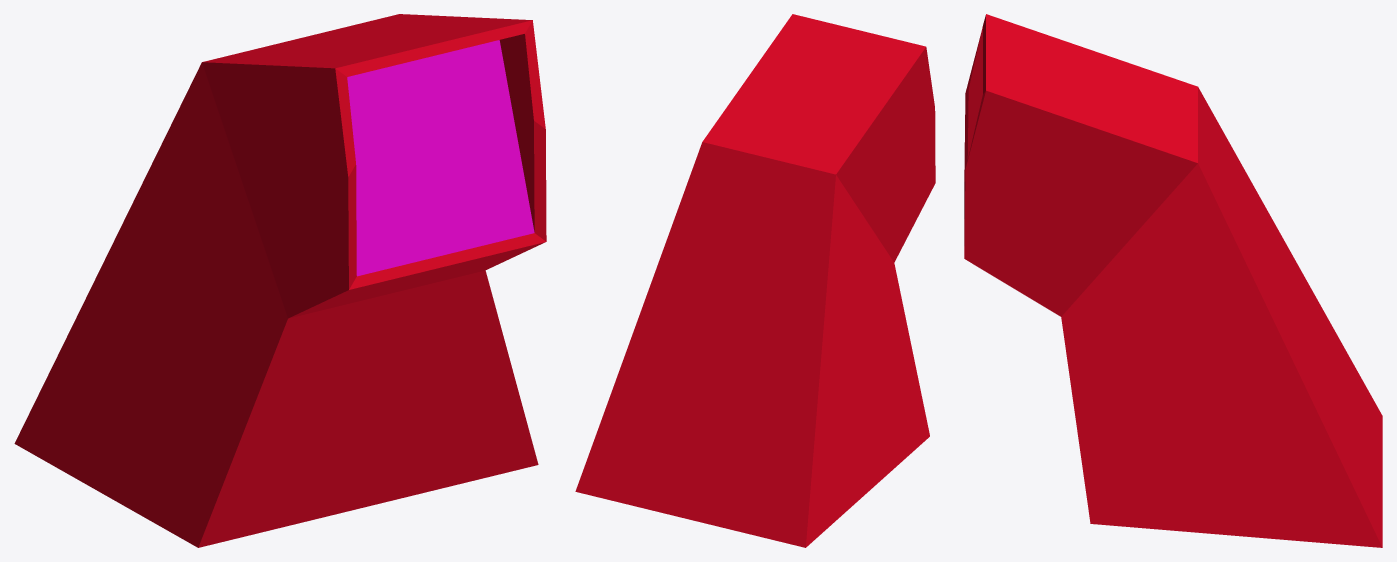
File: ConsoleSecondary.fbx
3 renders of one model, left to right at view 1: azimuth 30°, elevation 25°; view 2: azimuth 150°, elevation 25°; view 3: azimuth 270°, elevation 25°, orthographic. The views are drawn at different scales.
Visible parts, largest first — view 1: Console, ConsoleScreen; view 2: Console; view 3: Console.
Part boxes in pixels (bbox=[...]): Console: bbox=[14, 14, 546, 547]; ConsoleScreen: bbox=[347, 40, 534, 276]; Console: bbox=[575, 14, 935, 547]; Console: bbox=[964, 14, 1382, 547].
Size of the model in its own units: 345 by 523 by 461.
